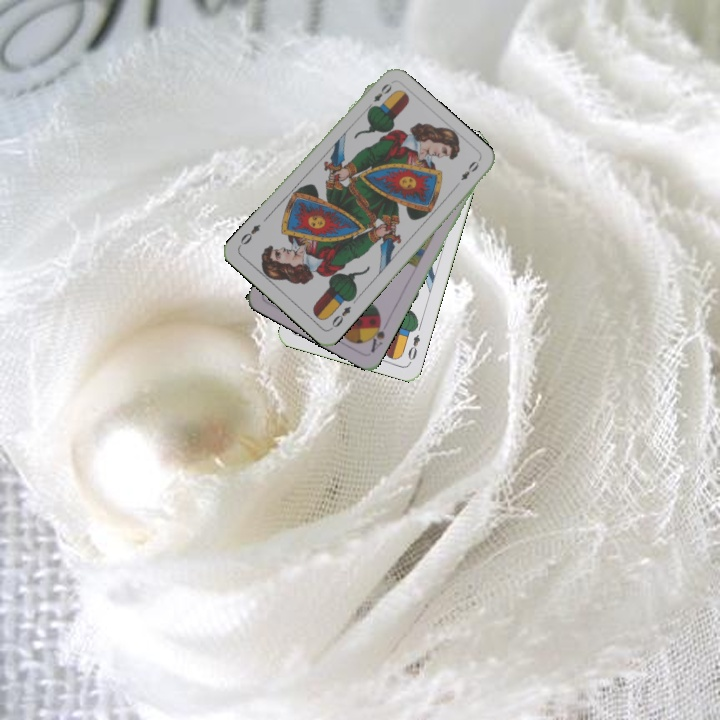EO: (363, 79, 394, 113), (326, 302, 354, 332), (404, 330, 423, 363)
SA: (364, 314, 391, 356)
